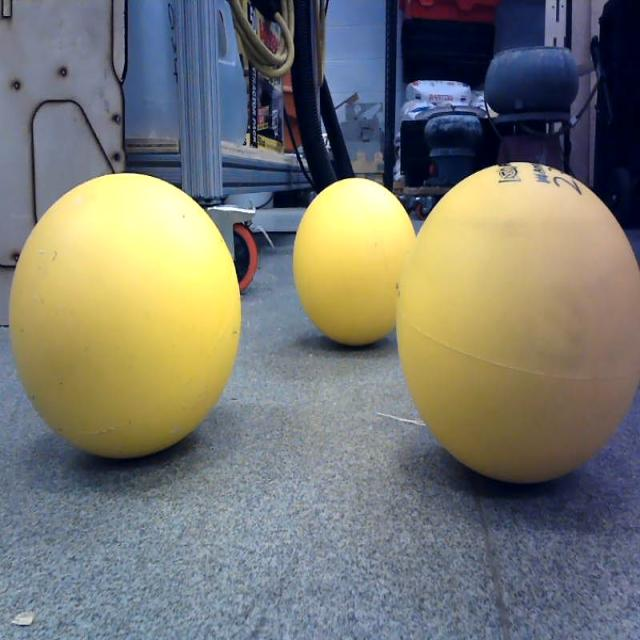Fuel: (395, 162, 640, 485), (10, 173, 242, 459), (292, 178, 419, 347)
